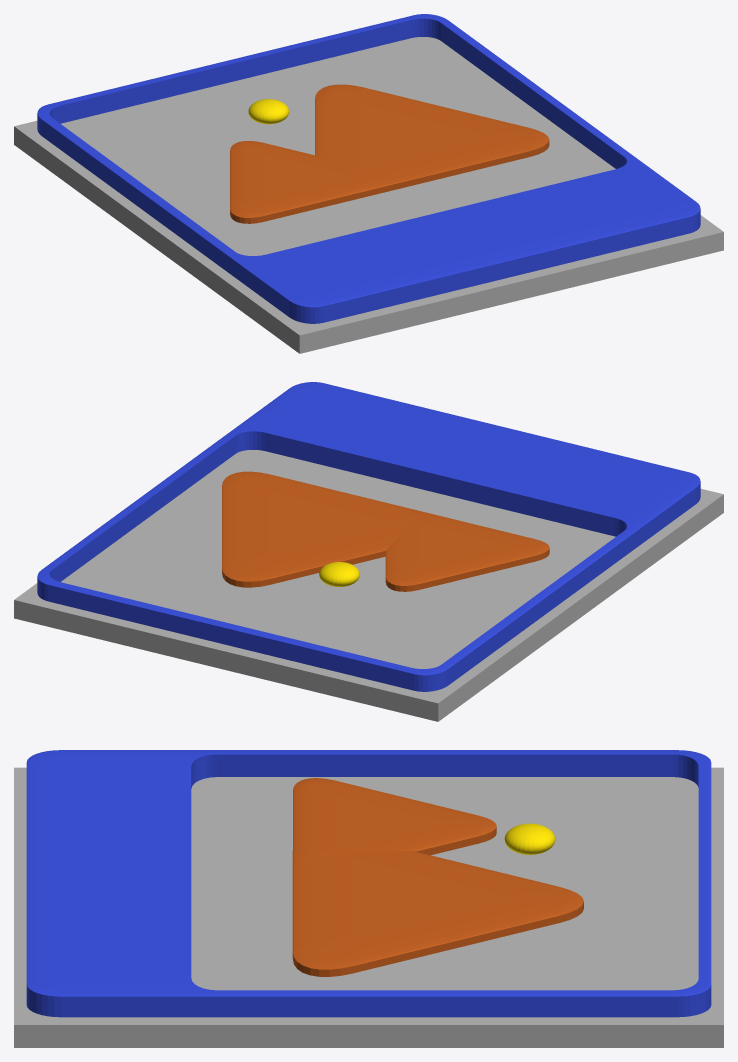
File: image.glb
3 renders of one model, top to bottom at view 1: azimuth 30°, elevation 25°; view 2: azimuth 150°, elevation 25°; view 3: azimuth 270°, elevation 25°, orthographic. The views are drawn at different scales.
Visible parts, largest first — view 1: Cube.001, Cube.002, Cylinder.002, Sphere; view 2: Cube.001, Cube.002, Cylinder.002, Sphere; view 3: Cube.001, Cube.002, Cylinder.002, Sphere.
Part boxes in pixels (left/top/right/bottom): Cube.001: left=14, top=37, right=723, bottom=353; Cube.002: left=37, top=14, right=700, bottom=323; Cylinder.002: left=230, top=84, right=549, bottom=223; Sphere: left=248, top=99, right=289, bottom=124; Cube.001: left=14, top=450, right=723, bottom=721; Cube.002: left=37, top=382, right=700, bottom=691; Cylinder.002: left=222, top=471, right=549, bottom=591; Sphere: left=319, top=562, right=359, bottom=586; Cube.001: left=14, top=767, right=723, bottom=1047; Cube.002: left=26, top=750, right=711, bottom=1017; Cylinder.002: left=292, top=778, right=583, bottom=976; Sphere: left=504, top=823, right=555, bottom=854.
Size of the model in its own units: 4.8 by 0.61 by 5.6.
